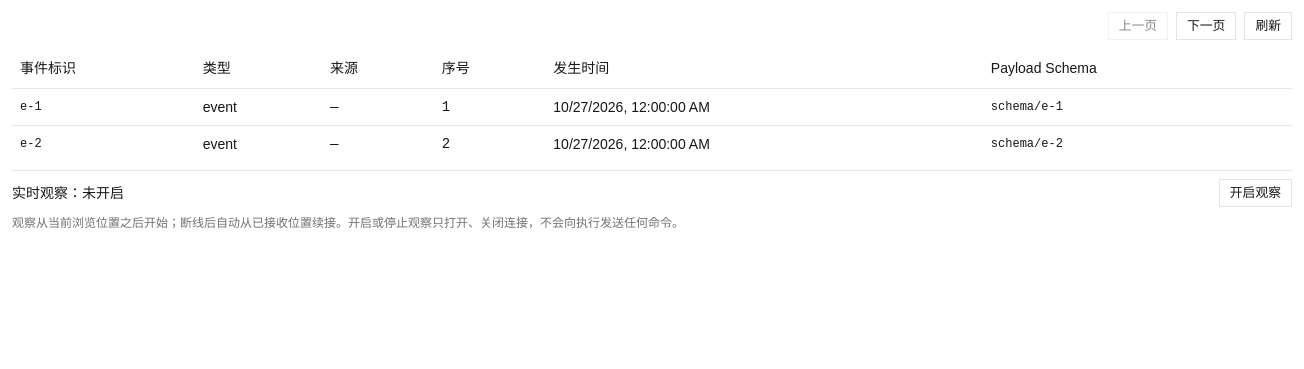
Test case: RunEventsPanel live observation › starts after the page tail, appends live events and resumes by source_sequence
Check: the text "e-1" is shown, box top-left (12, 88), bottom-right (195, 125)
Step 1. Click the button with test id "live-start" → (1255, 192), box top-left (1219, 178), bottom-right (1292, 206)
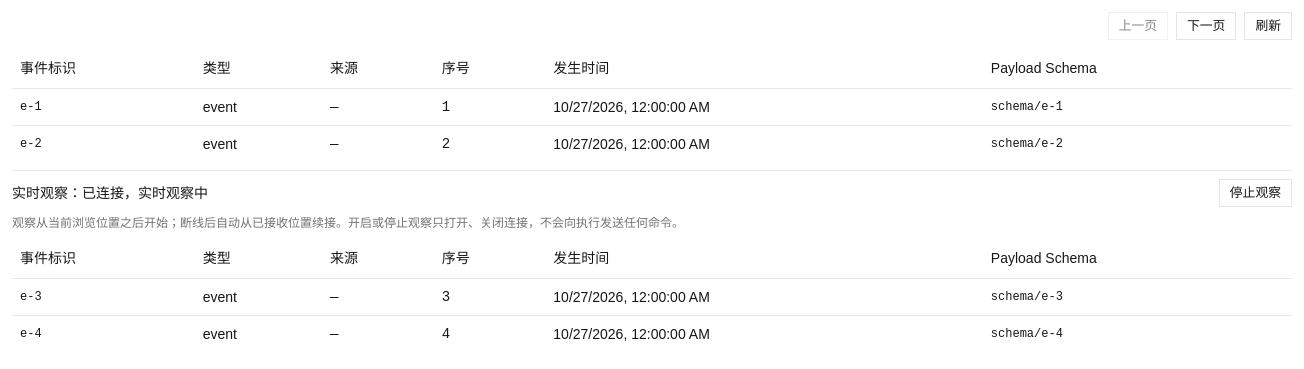
Check: the text "e-3" is shown, box top-left (12, 278), bottom-right (195, 316)
Check: the text "e-4" is shown, box top-left (12, 316), bottom-right (195, 352)
Check: the text with test id "live-status" shows "已连接", box top-left (82, 184), bottom-right (208, 200)
